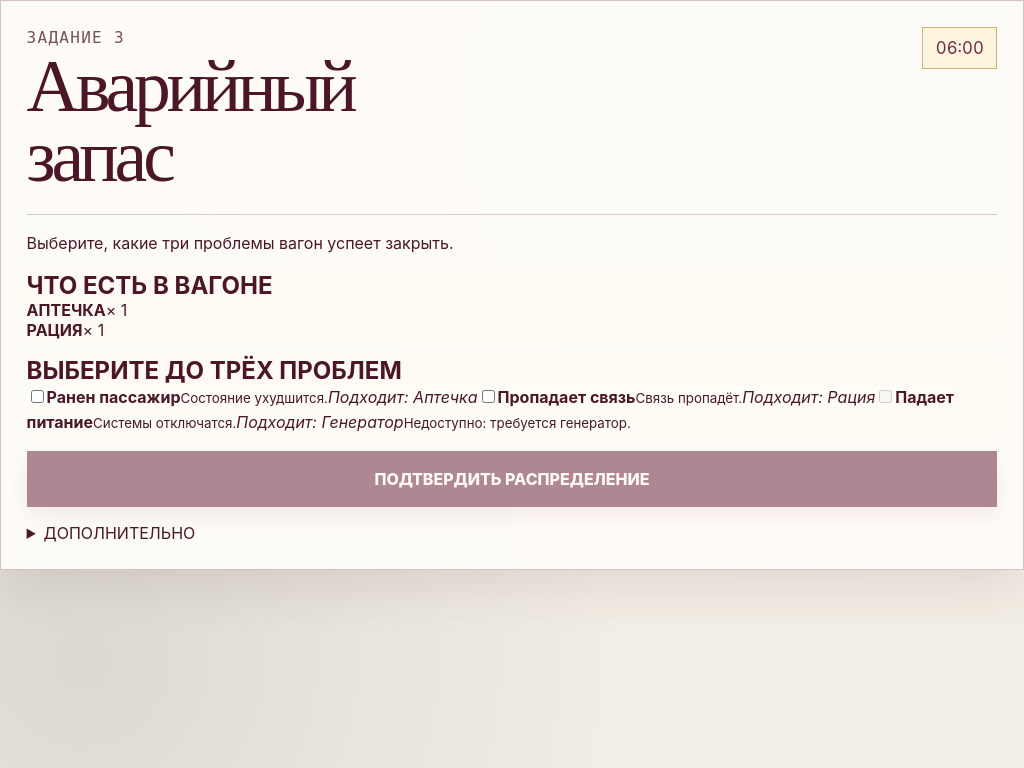
Scenario: MissionThreePlayer › restores the secondary ability action after a rejected command
This screenshot has width=1024, height=768.
Click the heading "ДОПОЛНИТЕЛЬНО" at [119, 533], box [44,523,195,543]
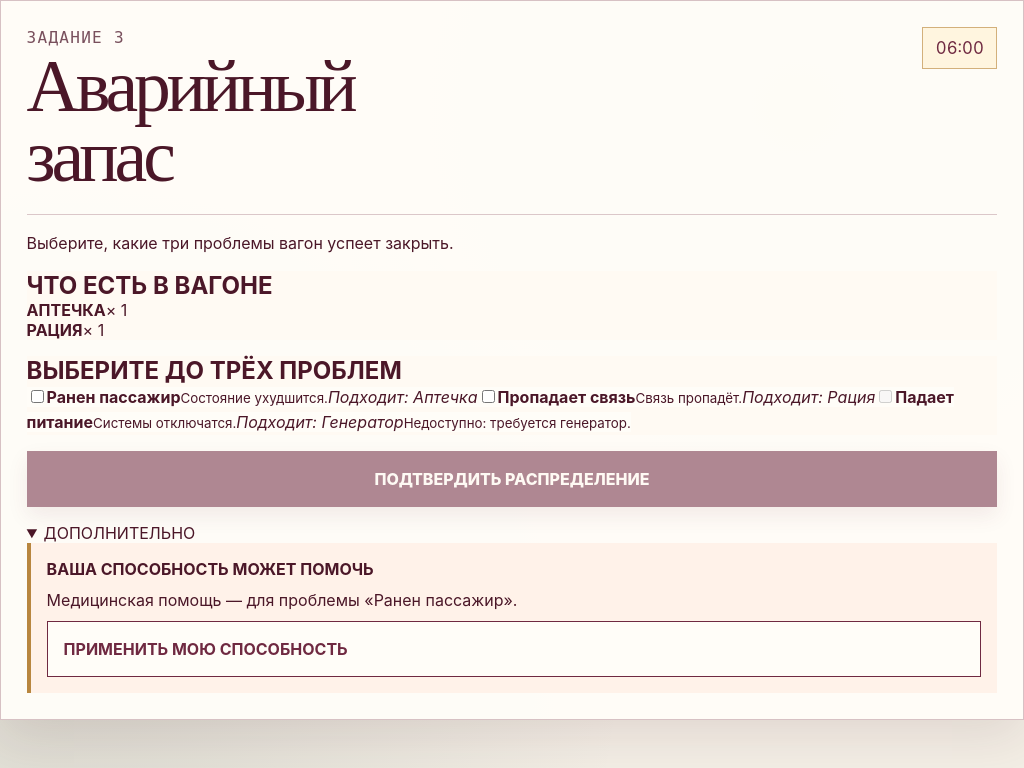
Click the button "ПРИМЕНИТЬ МОЮ СПОСОБНОСТЬ" at [206, 649], box [47,621,981,677]
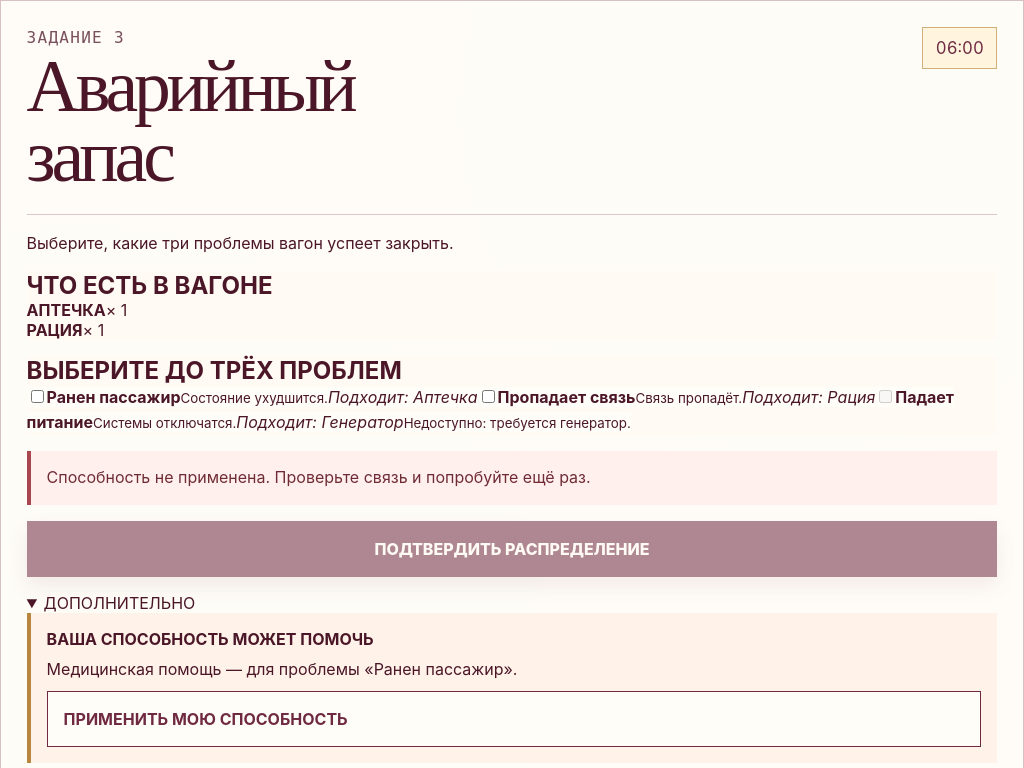
Now the button "ПРИМЕНИТЬ МОЮ СПОСОБНОСТЬ" is enabled, box [47,691,981,747]
Now the message reads "Способность не применена. Проверьте связь и попробуйте ещё раз.", box [47,467,591,487]
